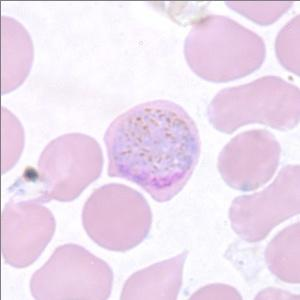Infected: (104, 98, 201, 203)
Uninfected: (205, 74, 300, 134), (229, 164, 300, 242), (183, 15, 264, 83), (28, 242, 113, 300), (82, 182, 153, 250), (38, 131, 102, 201), (218, 127, 281, 191), (0, 198, 57, 268), (121, 248, 188, 300), (263, 221, 300, 283)
